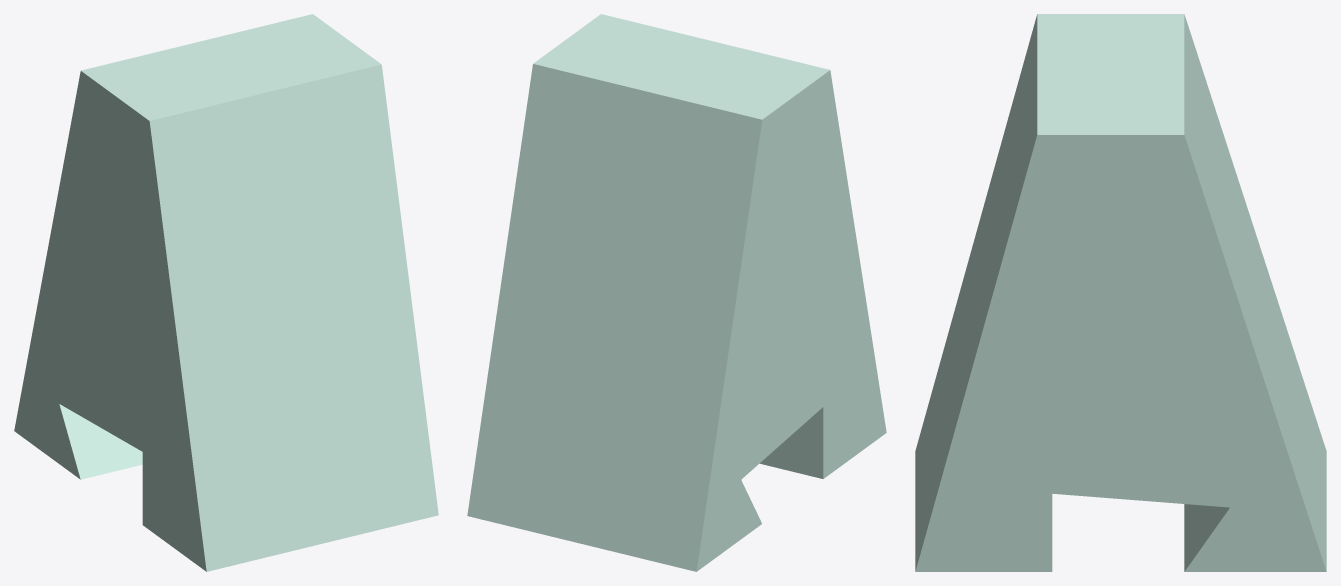
3 renders of one model, left to right at view 1: azimuth 30°, elevation 25°; view 2: azimuth 150°, elevation 25°; view 3: azimuth 270°, elevation 25°, orthographic. The views are drawn at different scales.
Visible parts, largest first — view 1: Renderer Node; view 2: Renderer Node; view 3: Renderer Node.
Part boxes in pixels (bbox=[...]): Renderer Node: bbox=[14, 14, 438, 571]; Renderer Node: bbox=[467, 14, 886, 571]; Renderer Node: bbox=[915, 14, 1326, 571].
Bounding box in the file's own units: 0.4453 × 0.75 × 0.6395.
